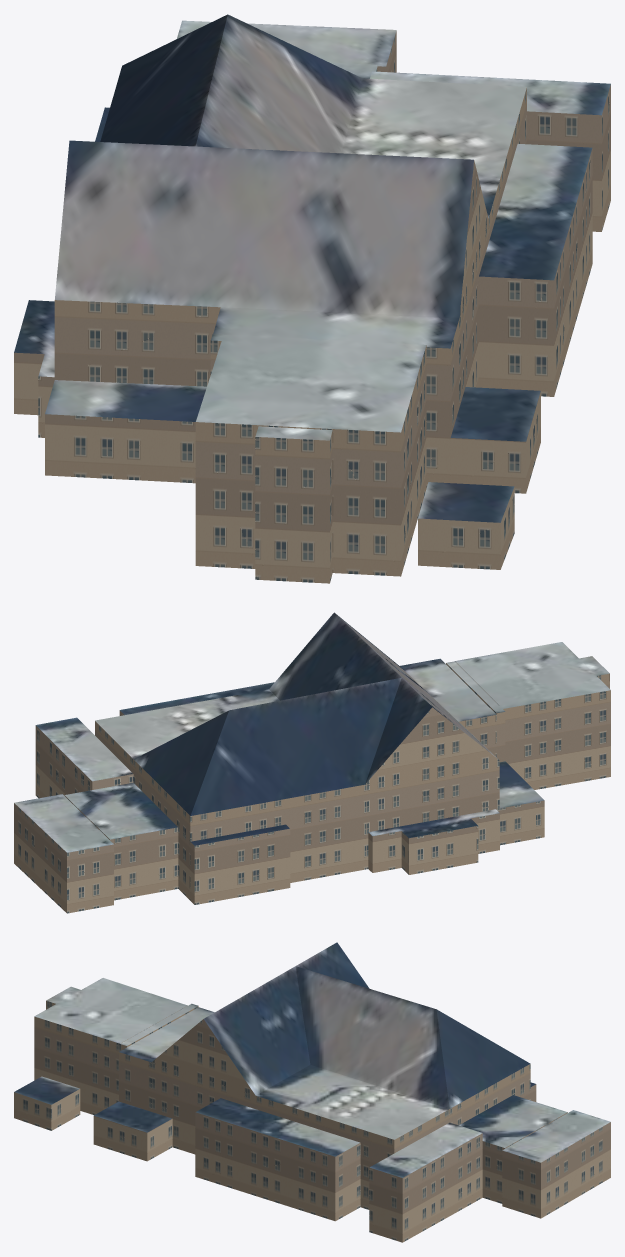
The model's file is Moenchengladbach_Hauptbahnhof.glb.
3 views of the same model, one above another, from view 1: azimuth 30°, elevation 25°; view 2: azimuth 150°, elevation 25°; view 3: azimuth 270°, elevation 25° (orthographic). The views are drawn at different scales.
Visible parts, largest first — view 1: Moenchengladbach_Hauptbahnhof; view 2: Moenchengladbach_Hauptbahnhof; view 3: Moenchengladbach_Hauptbahnhof.
Boxes of the visible parts, <box> form: Moenchengladbach_Hauptbahnhof: <box>14,14,610,583</box>; Moenchengladbach_Hauptbahnhof: <box>14,612,610,913</box>; Moenchengladbach_Hauptbahnhof: <box>14,942,610,1242</box>.
Bounding box in the file's own units: 60.69 × 20.51 × 80.26.
3 materials, 2 textured.
